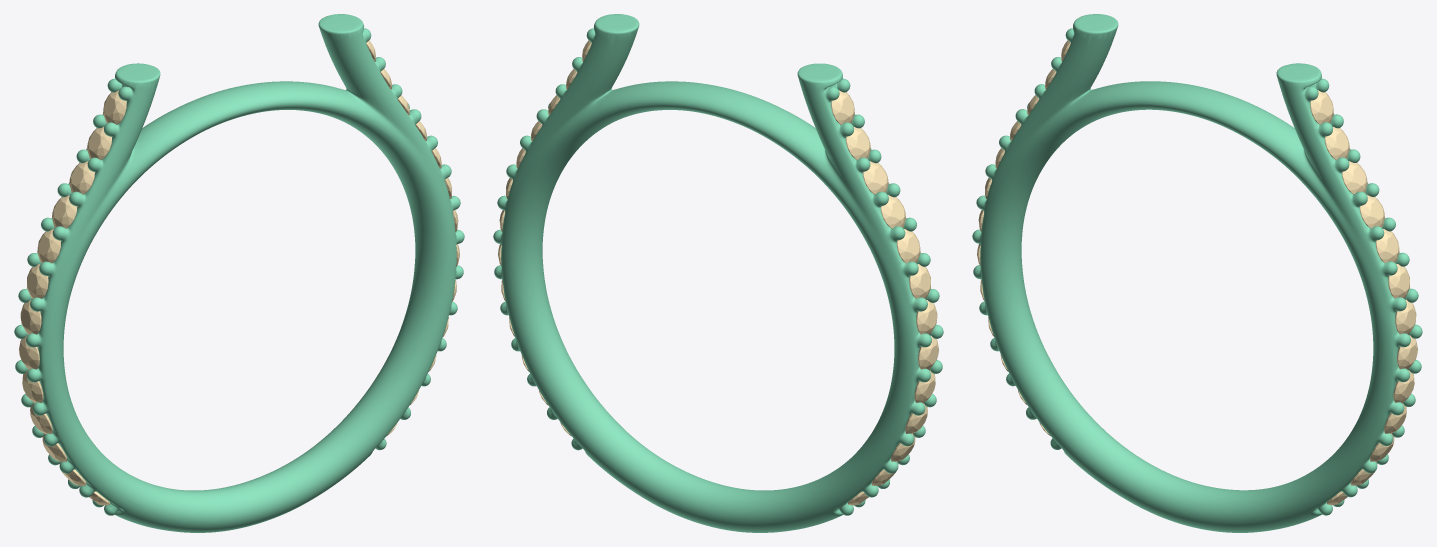
3 views of the same model, side by side, from view 1: azimuth 30°, elevation 25°; view 2: azimuth 150°, elevation 25°; view 3: azimuth 330°, elevation 25° (orthographic).
Visible parts, largest first — view 1: Metal02, Diamond_Gem.010, Diamond_Gem.011, Diamond_Gem.003, Diamond_Gem.012, Diamond_Gem.002, Diamond_Gem.001, Diamond_Gem.009; view 2: Metal02, Diamond_Gem.010, Diamond_Gem.011, Diamond_Gem.003, Diamond_Gem.012, Diamond_Gem.002, Diamond_Gem.001; view 3: Metal02, Diamond_Gem.015, Diamond_Gem.014, Diamond_Gem.022, Diamond_Gem.023, Diamond_Gem.013, Diamond_Gem.024, Diamond_Gem.016.
Boxes of the visible parts, x1,y1,x2,y2 form: Metal02: [14, 14, 464, 532]; Diamond_Gem.010: [69, 161, 94, 194]; Diamond_Gem.011: [87, 127, 111, 160]; Diamond_Gem.003: [52, 195, 77, 228]; Diamond_Gem.012: [103, 90, 126, 124]; Diamond_Gem.002: [37, 229, 60, 263]; Diamond_Gem.001: [27, 264, 48, 298]; Diamond_Gem.009: [20, 300, 41, 334]; Metal02: [493, 14, 943, 532]; Diamond_Gem.010: [863, 161, 888, 194]; Diamond_Gem.011: [846, 127, 870, 160]; Diamond_Gem.003: [880, 195, 905, 228]; Diamond_Gem.012: [831, 90, 854, 124]; Diamond_Gem.002: [897, 229, 920, 263]; Diamond_Gem.001: [909, 264, 930, 298]; Metal02: [972, 14, 1422, 532]; Diamond_Gem.015: [1342, 161, 1367, 194]; Diamond_Gem.014: [1325, 127, 1349, 159]; Diamond_Gem.022: [1359, 195, 1384, 228]; Diamond_Gem.023: [1376, 229, 1399, 263]; Diamond_Gem.013: [1310, 90, 1333, 124]; Diamond_Gem.024: [1388, 264, 1409, 298]; Diamond_Gem.016: [1395, 299, 1416, 334].
Bounding box in the file's own units: 21.11 × 22.07 × 1.99.
